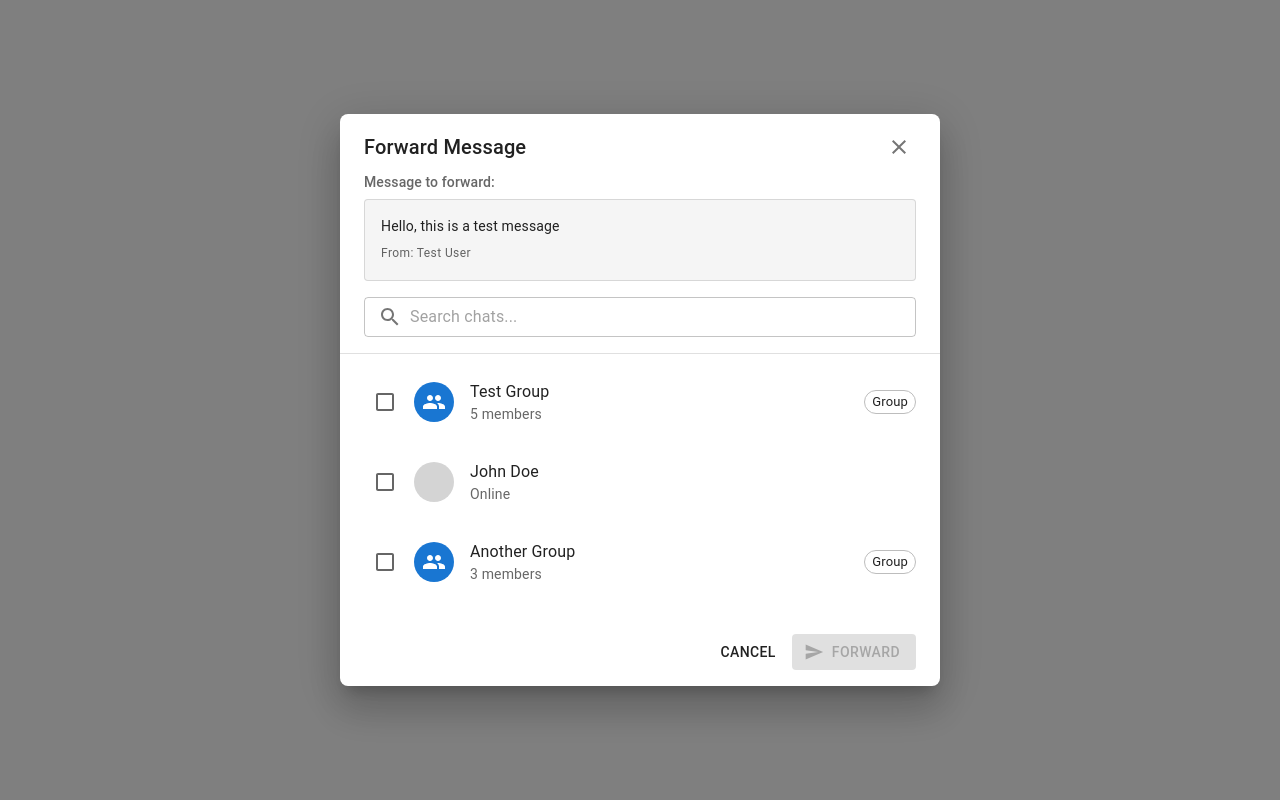
Test: MessageForwardDialog › Chat Selection › allows deselecting chats
Click the checkbox named "test group": (385, 402) [373,390,397,414]
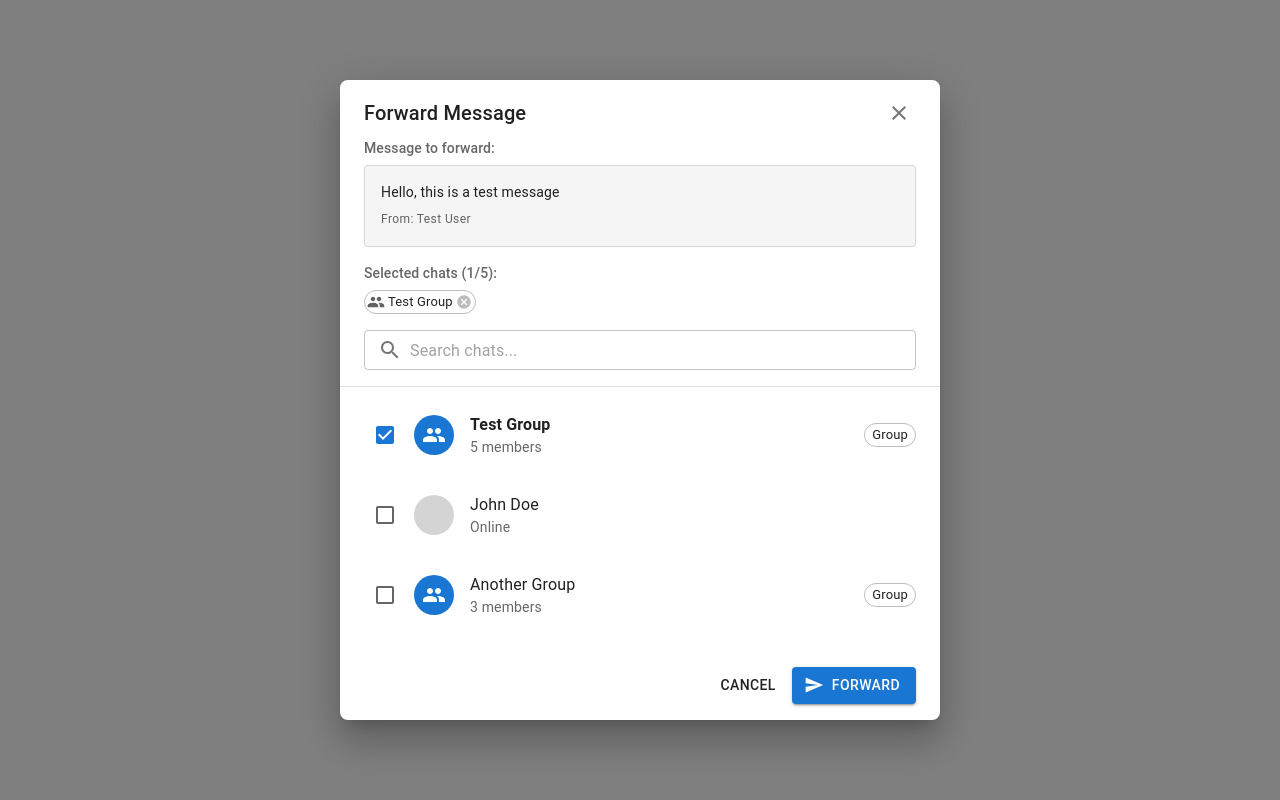
Check: the checkbox named "test group" is checked
Click the checkbox named "test group": (385, 435) [373,423,397,447]
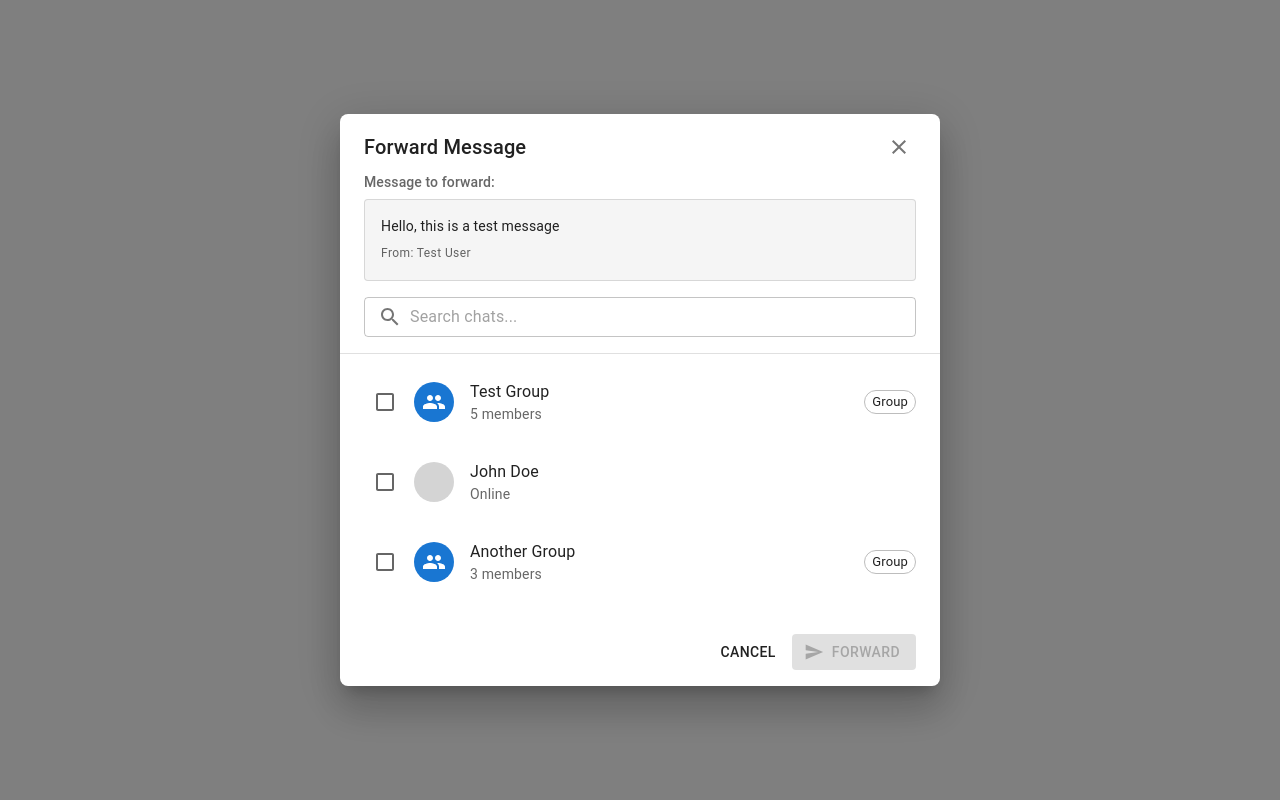
Check: the checkbox named "test group" is not checked, box [373,390,397,414]
Check: the heading "Selected chats" is gone
